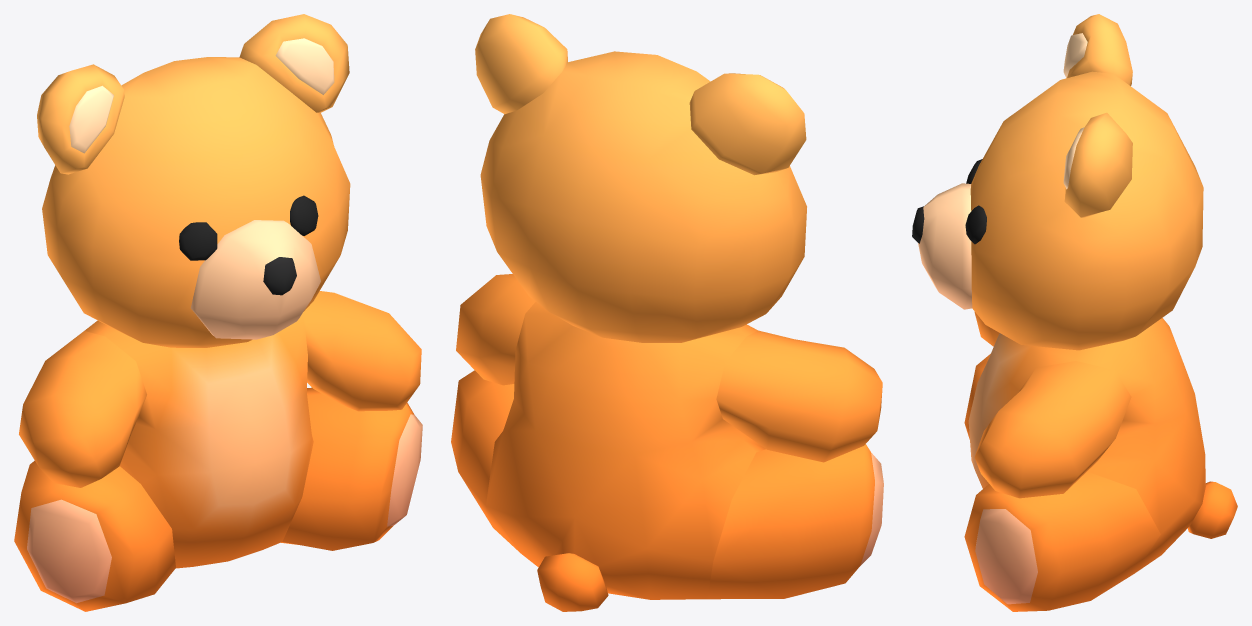
File: Bear_01.glb
3 renders of one model, left to right at view 1: azimuth 30°, elevation 25°; view 2: azimuth 150°, elevation 25°; view 3: azimuth 270°, elevation 25°, orthographic. The views are drawn at different scales.
Visible parts, largest first — view 1: Bear_01; view 2: Bear_01; view 3: Bear_01.
Boxes of the visible parts, x1,y1,x2,y2 form: Bear_01: [14, 14, 422, 611]; Bear_01: [451, 14, 883, 611]; Bear_01: [912, 14, 1237, 611].
Size of the model in its own units: 0.3281 by 0.4118 by 0.2509.
2 materials, 2 textured.
